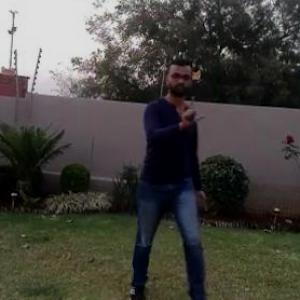land_hand: (176, 93, 208, 129)
